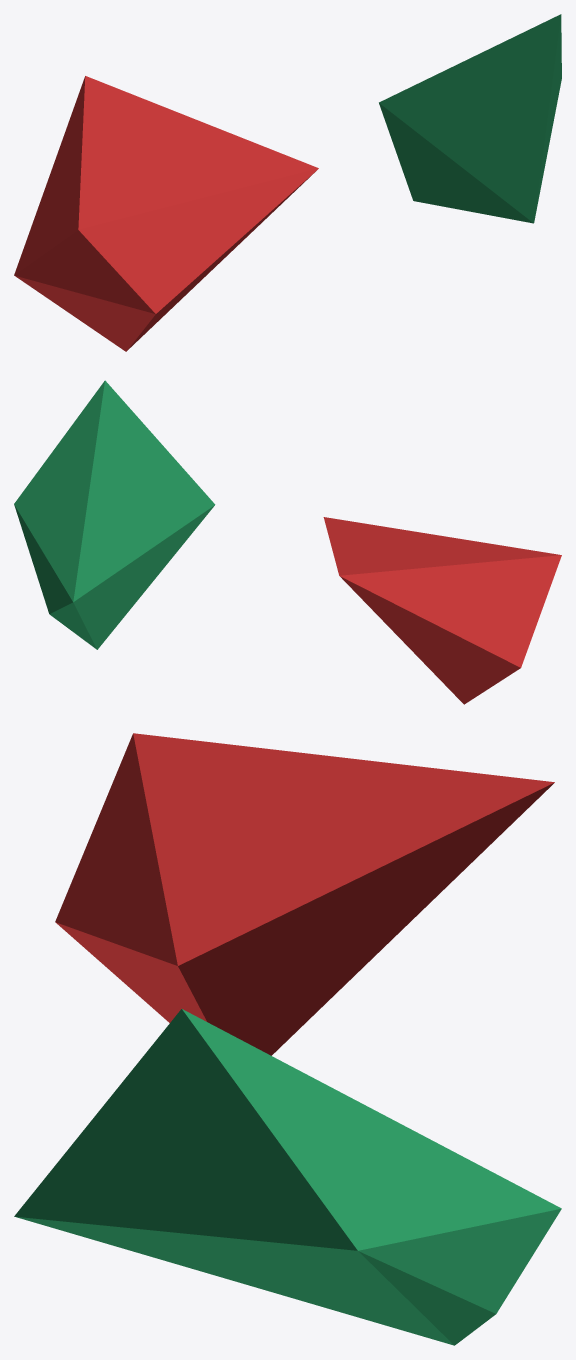
File: octahedron.obj
3 views of the same model, one above another, from view 1: azimuth 30°, elevation 25°; view 2: azimuth 150°, elevation 25°; view 3: azimuth 270°, elevation 25° (orthographic). The views are drawn at different scales.
Parts seen in each view (by area): view 1: [4, 4, 4, 4, 4, 4], [3, 3, 4, 4, 5, 5]; view 2: [3, 3, 4, 4, 5, 5], [4, 4, 4, 4, 4, 4]; view 3: [3, 3, 4, 4, 5, 5], [4, 4, 4, 4, 4, 4].
Part boxes in pixels (x1,y1,x2,y2): [4, 4, 4, 4, 4, 4]: (14, 76, 318, 351); [3, 3, 4, 4, 5, 5]: (379, 14, 561, 223); [3, 3, 4, 4, 5, 5]: (14, 380, 215, 649); [4, 4, 4, 4, 4, 4]: (323, 517, 561, 704); [3, 3, 4, 4, 5, 5]: (14, 1009, 561, 1345); [4, 4, 4, 4, 4, 4]: (55, 733, 554, 1055).
Bounding box in the file's own units: 3.87 × 1.65 × 1.89.
